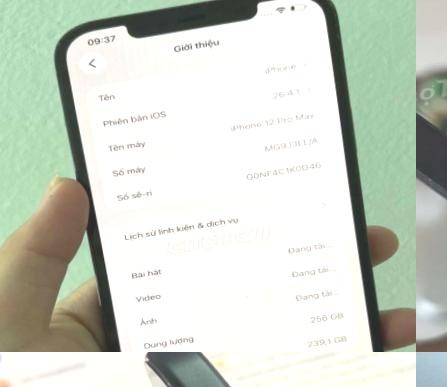scratch: (431, 169, 447, 309)
